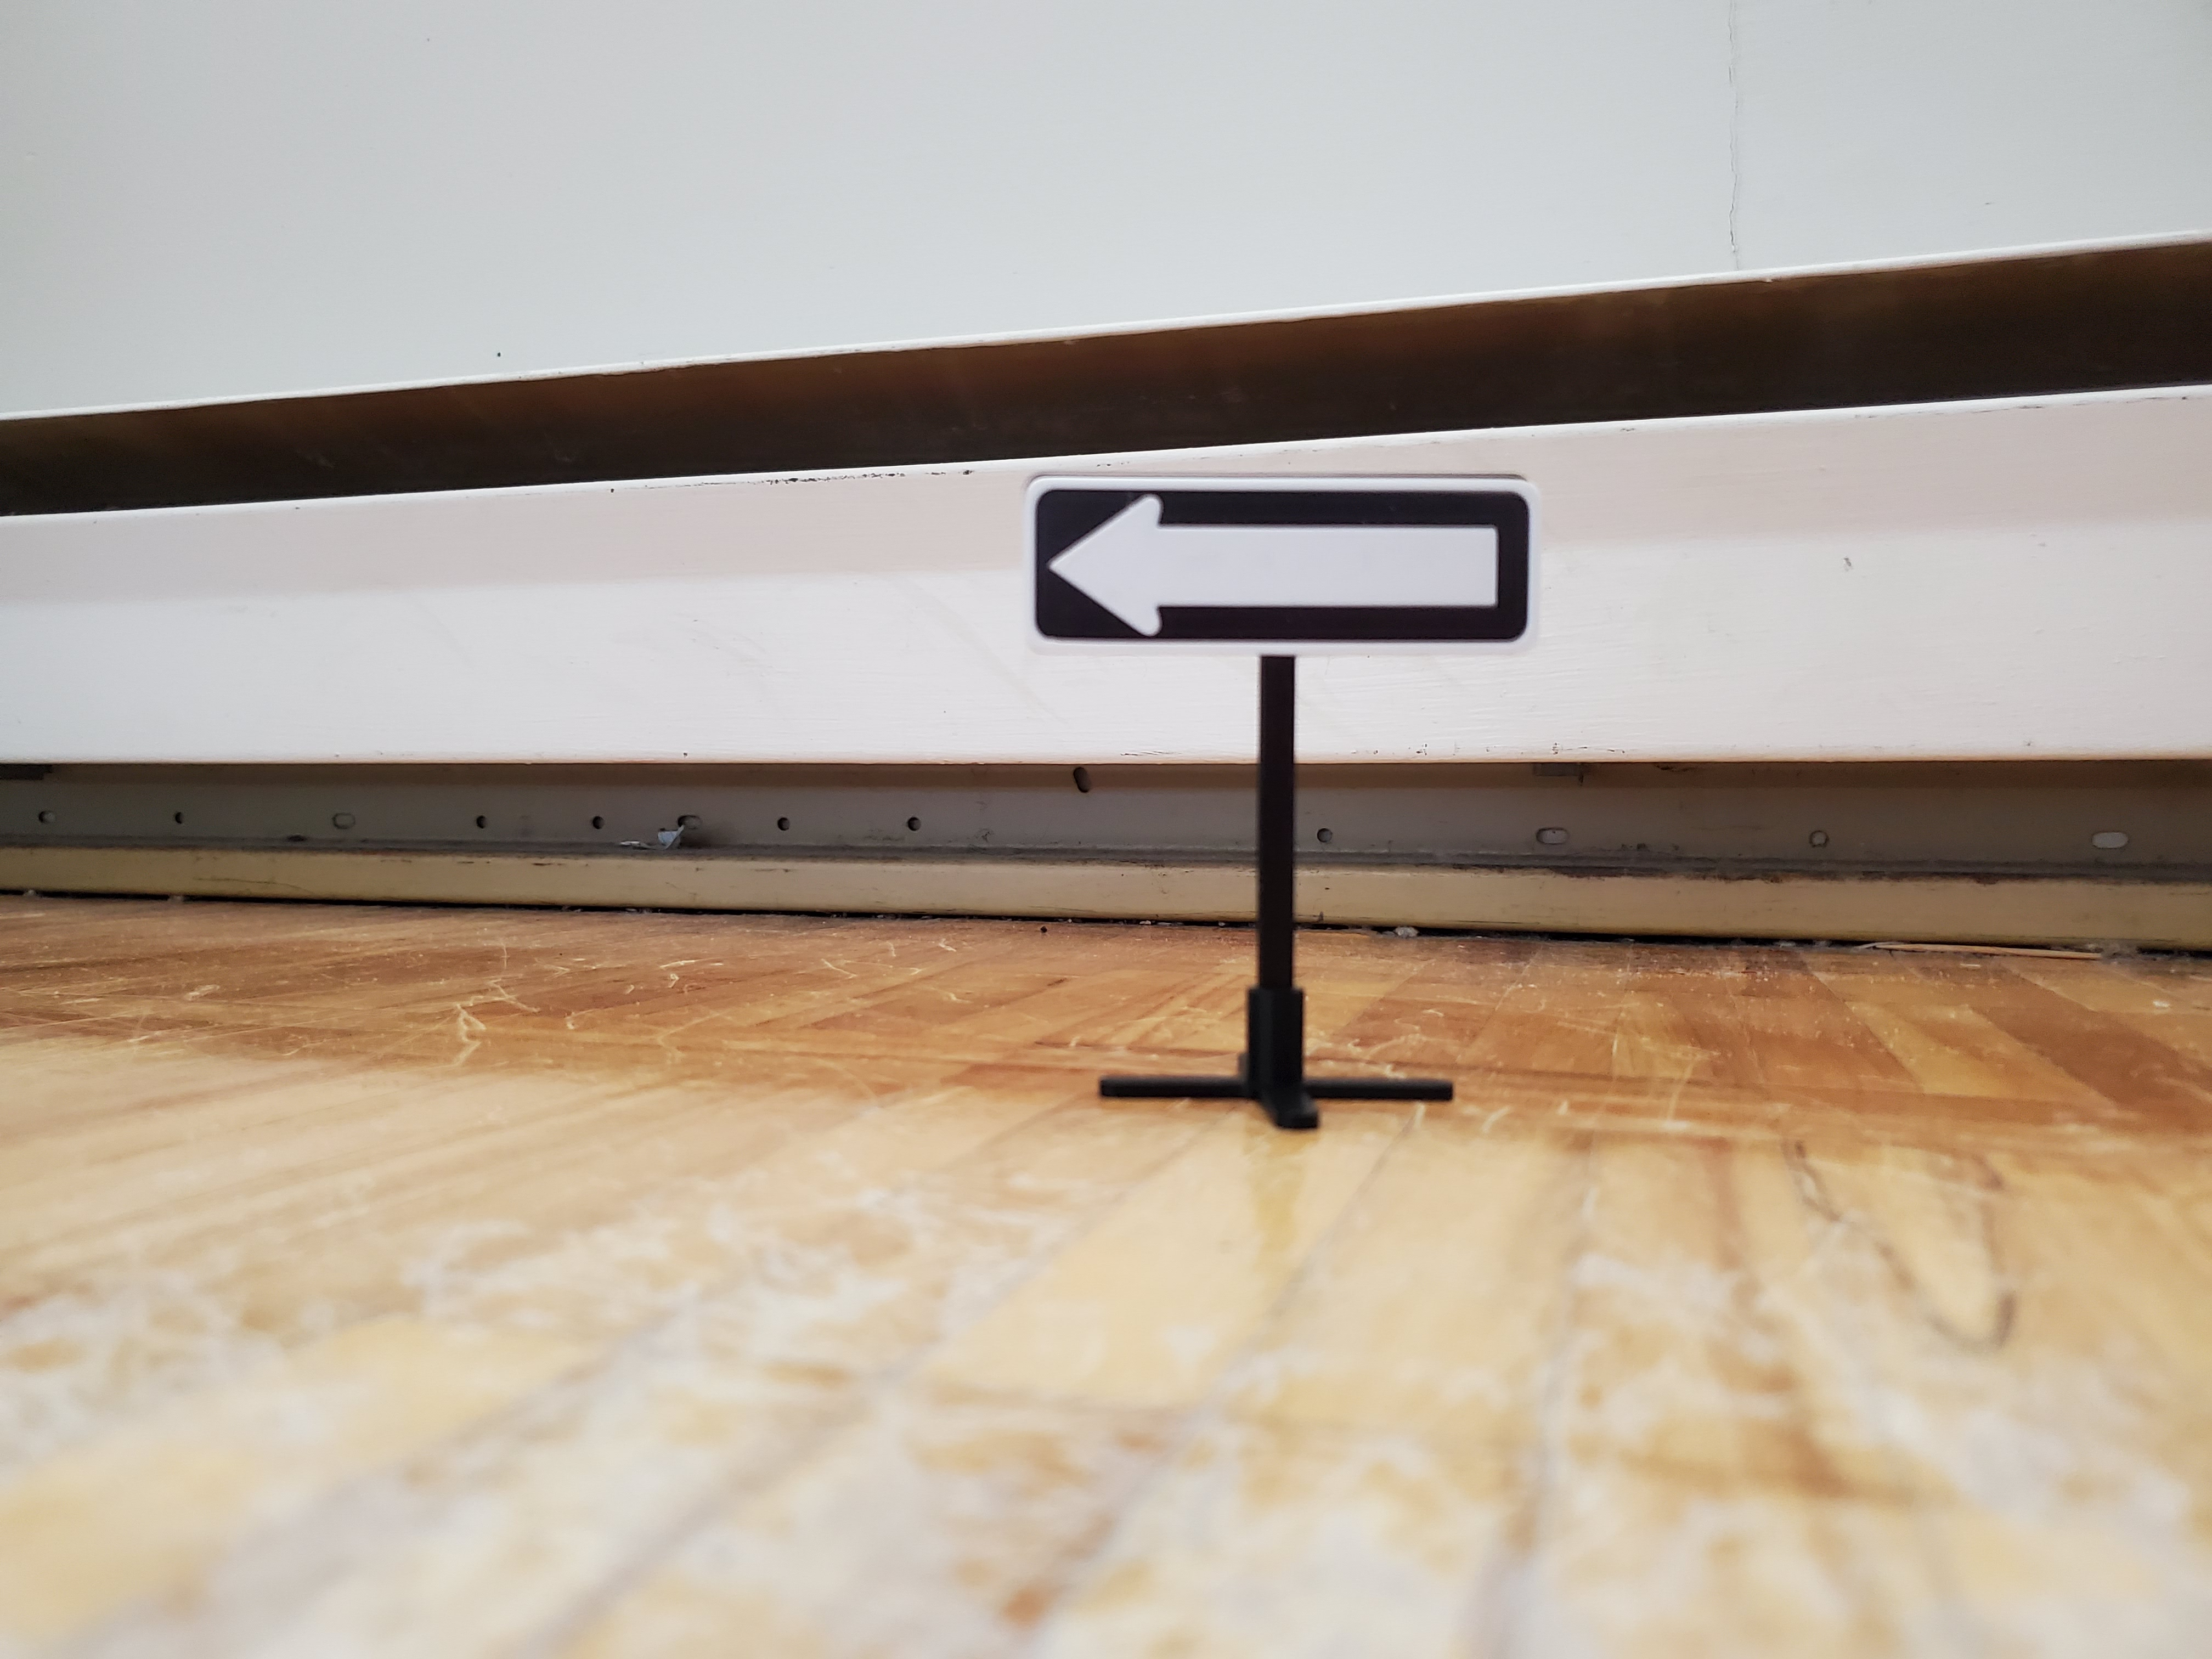sign_oneway_left: (986, 439, 1583, 1148)
